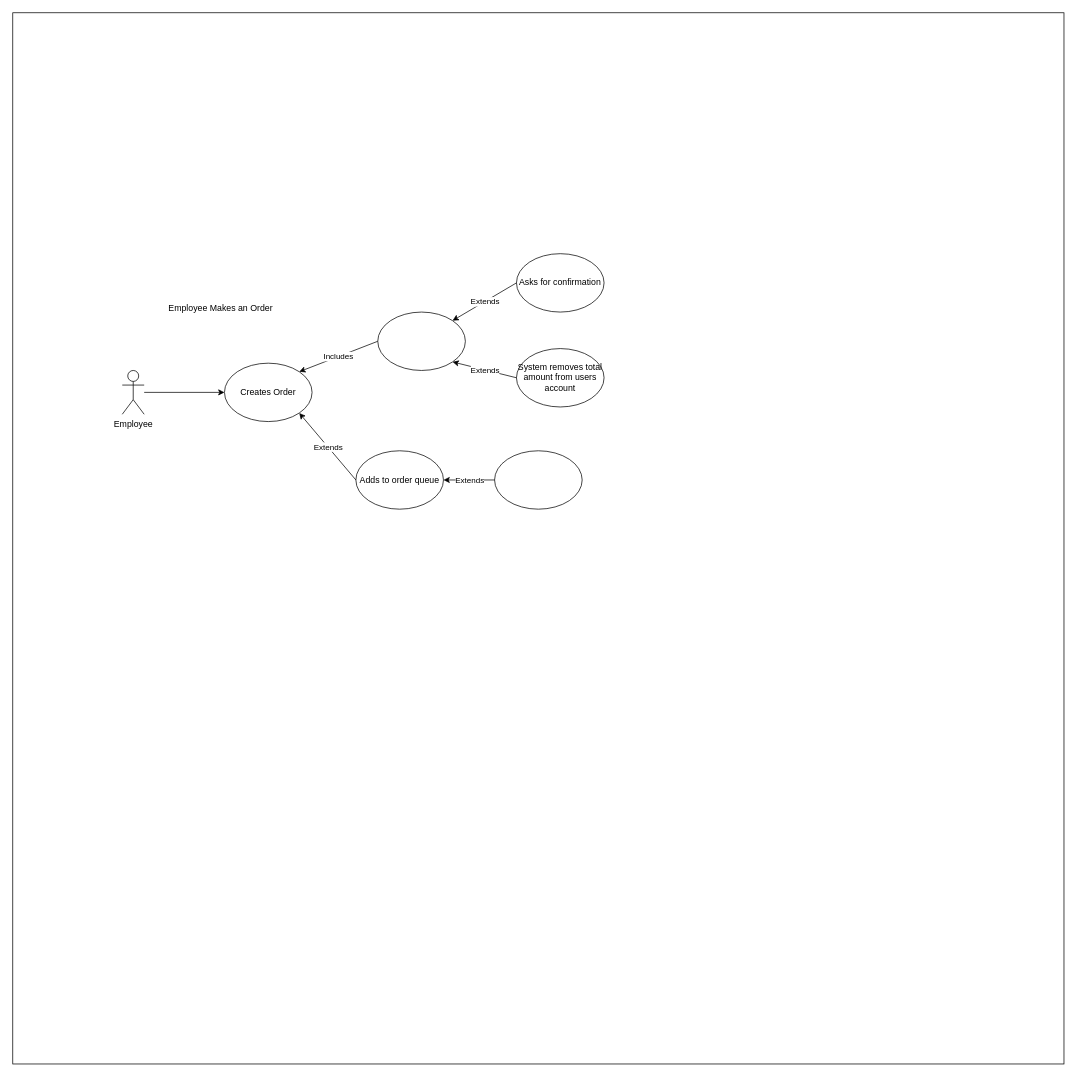
The diagram is 1077 pixels wide and 1077 high, and some of its shapes have lost their labels. Each missing label, with the centre of its shape:
Makes purchase: the point at 421,340
Update order queue: the point at 538,479
